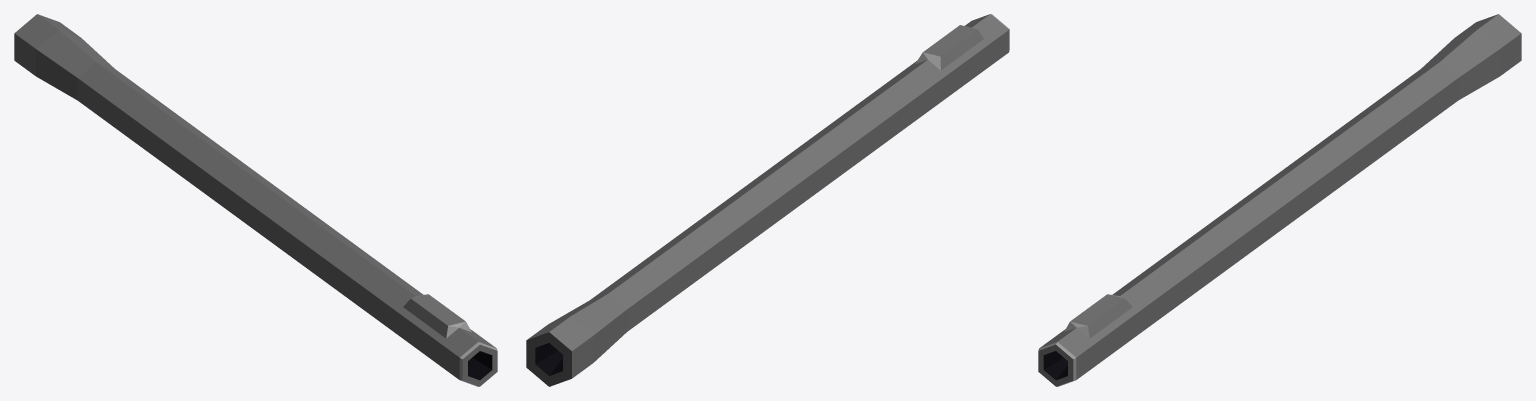
File: MW1_Barrel_12ga_18in_01.fbx
The picture shows the model from 3 angles, left to right: view 1: azimuth 30°, elevation 25°; view 2: azimuth 150°, elevation 25°; view 3: azimuth 330°, elevation 25°; orthographic projection.
Parts seen in each view (by area): view 1: Barrel_12ga_18in_01; view 2: Barrel_12ga_18in_01; view 3: Barrel_12ga_18in_01.
Boxes of the visible parts, bbox=[...] form: Barrel_12ga_18in_01: bbox=[14, 14, 497, 386]; Barrel_12ga_18in_01: bbox=[526, 14, 1009, 386]; Barrel_12ga_18in_01: bbox=[1038, 14, 1521, 386].
Size of the model in its own units: 2.71 by 3.13 by 45.72.
